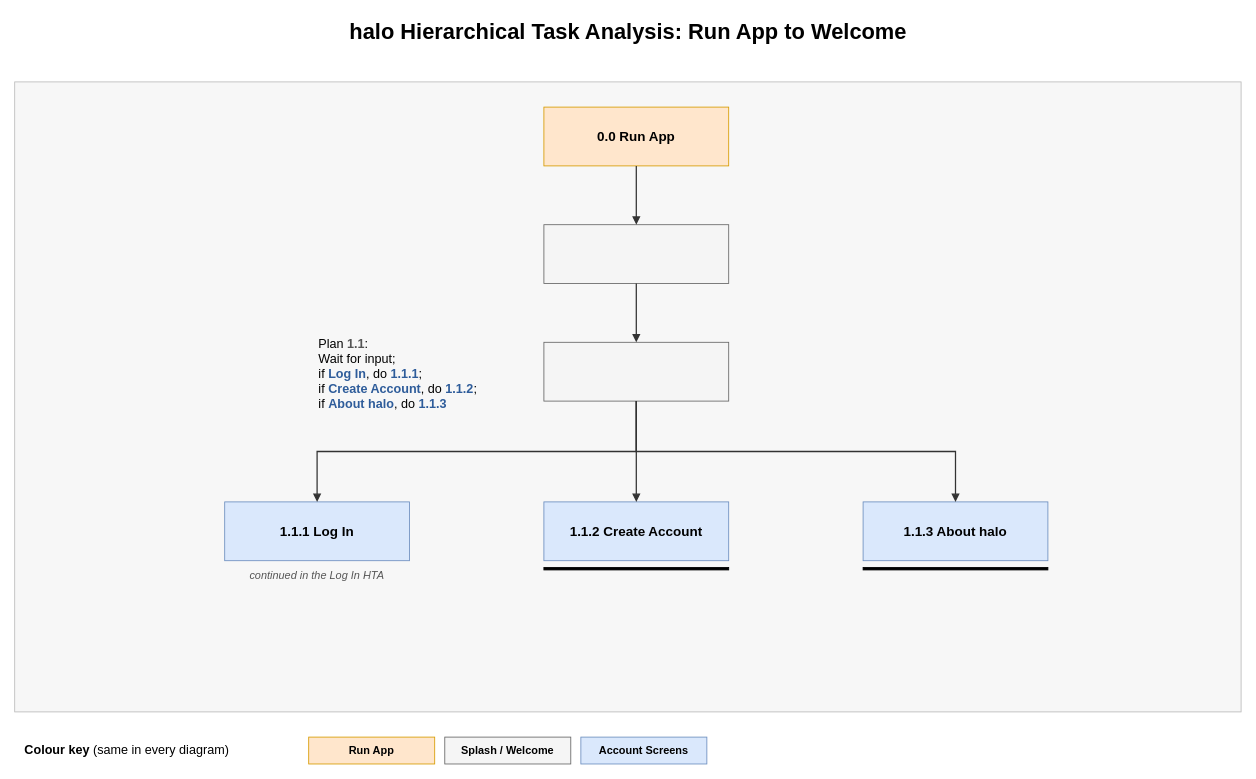
This 1256x779 diagram has some shape labels left out. The box of each missing label's shape, as (x1, y1, x2, y2) in pixels:
1.0 Splash: (543, 224, 729, 284)
1.1 Welcome: (543, 341, 729, 401)
